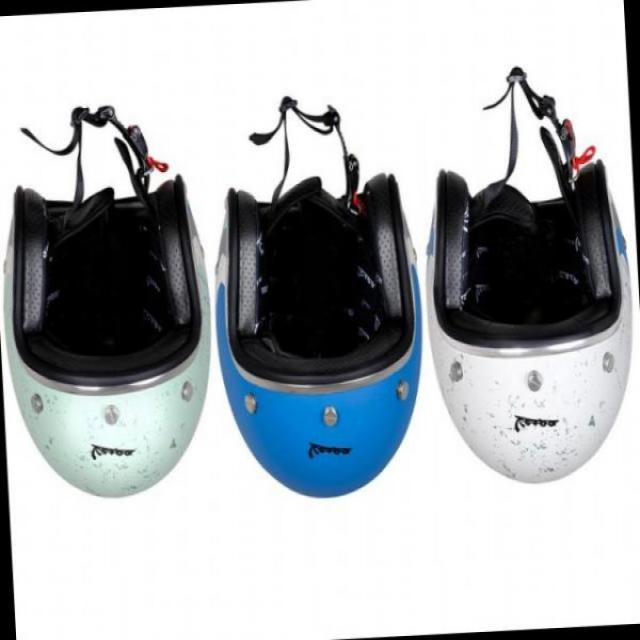Helmet: (194, 86, 417, 494), (0, 113, 220, 477), (432, 82, 607, 428)
